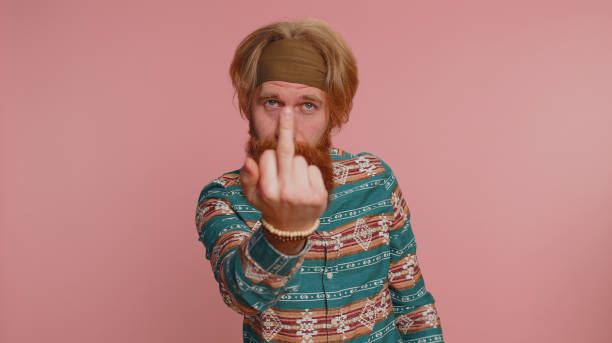insulting_gesture: (242, 104, 328, 232)
